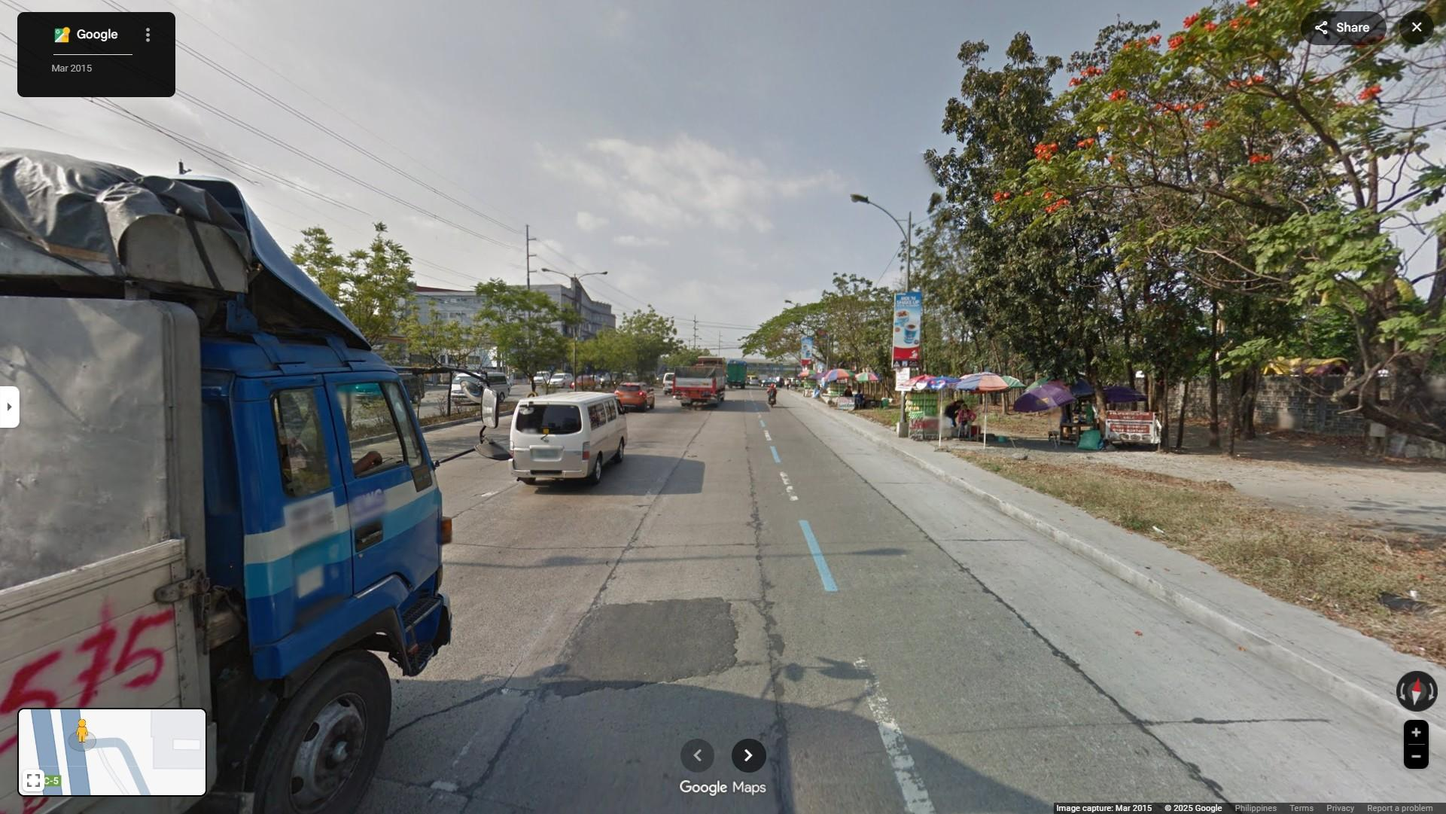pedestrian: (943, 400, 962, 440), (958, 404, 977, 441), (853, 389, 865, 410), (844, 386, 854, 406), (784, 377, 790, 391)
